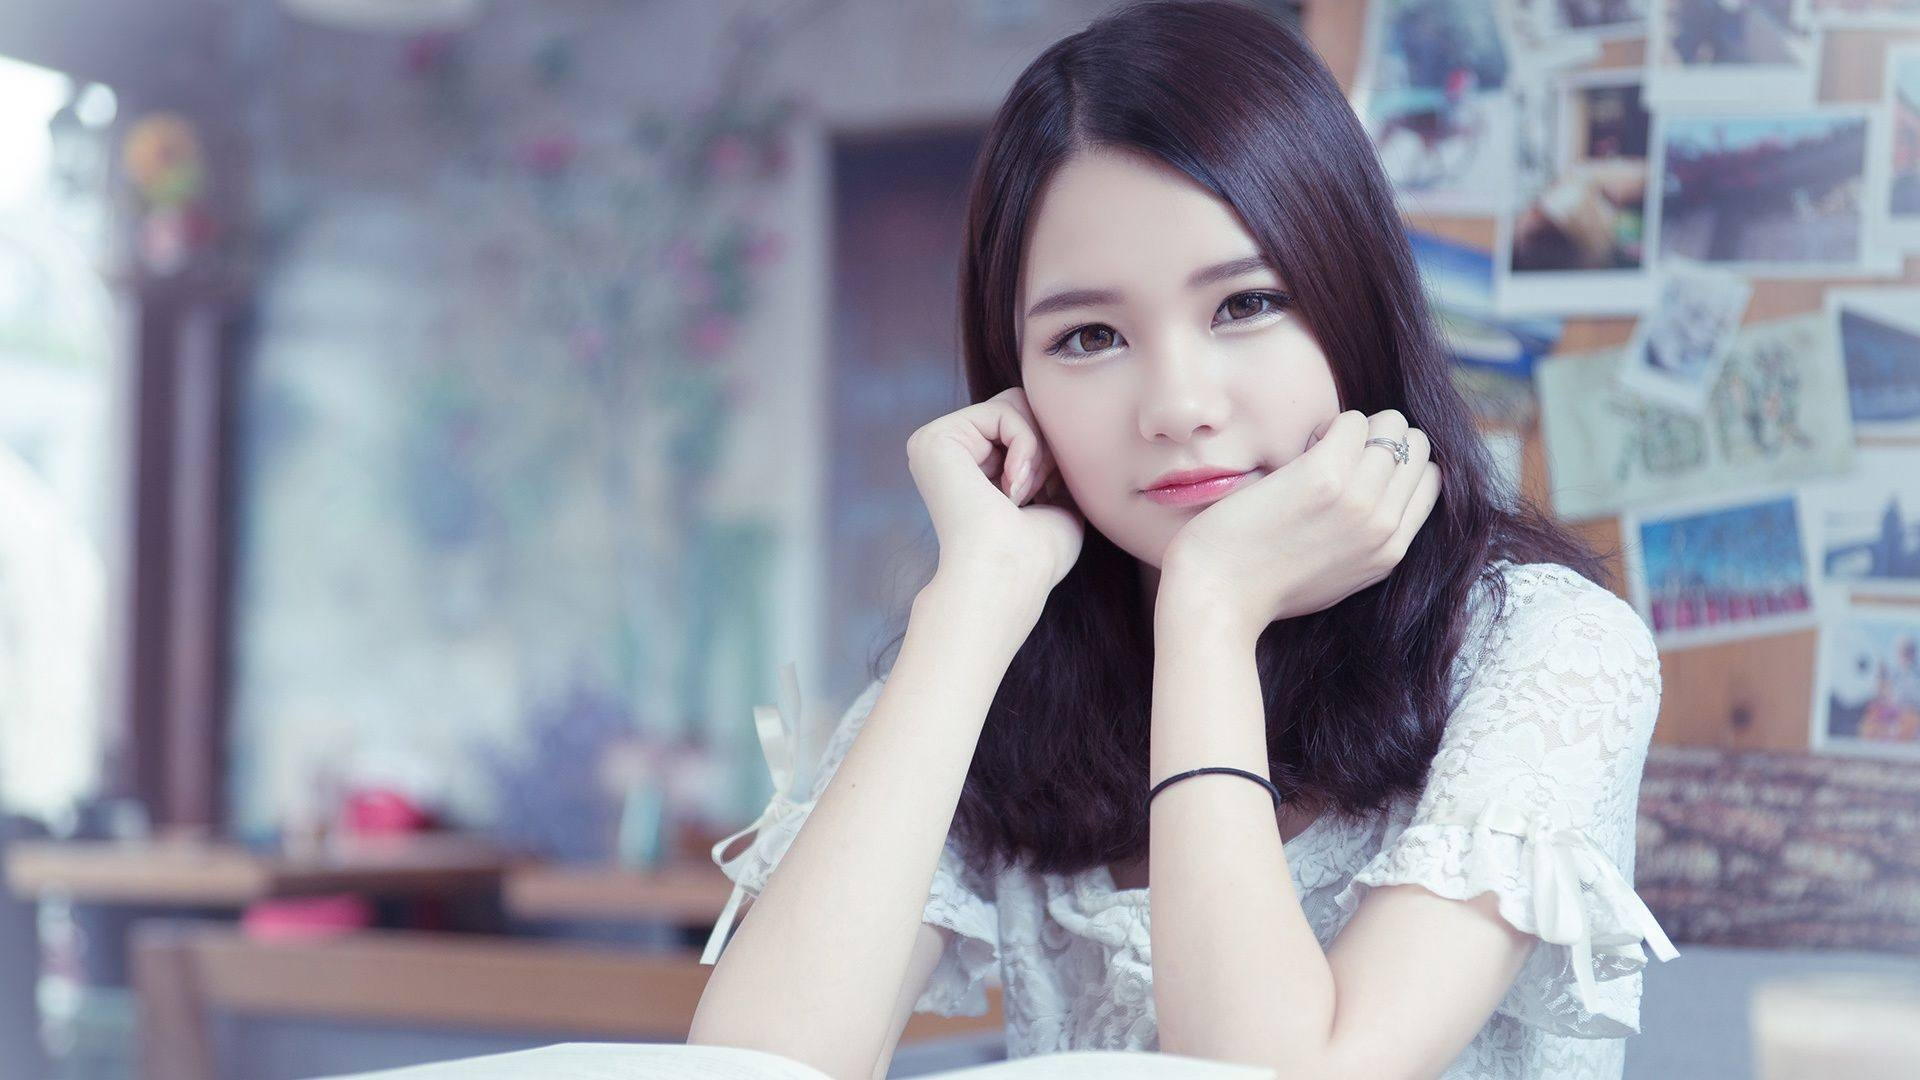person: (729, 94, 1625, 1080)
